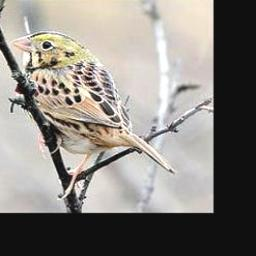Sparrow: (7, 28, 176, 202)
